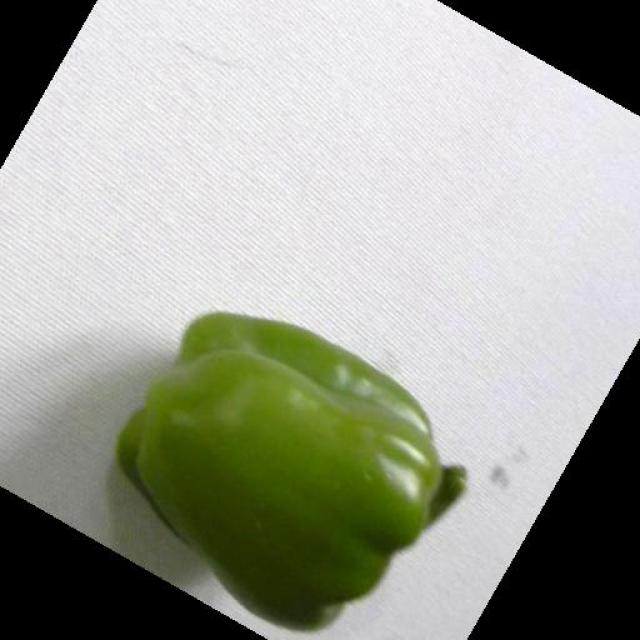Fresh_Capsicum: (88, 316, 507, 580)
